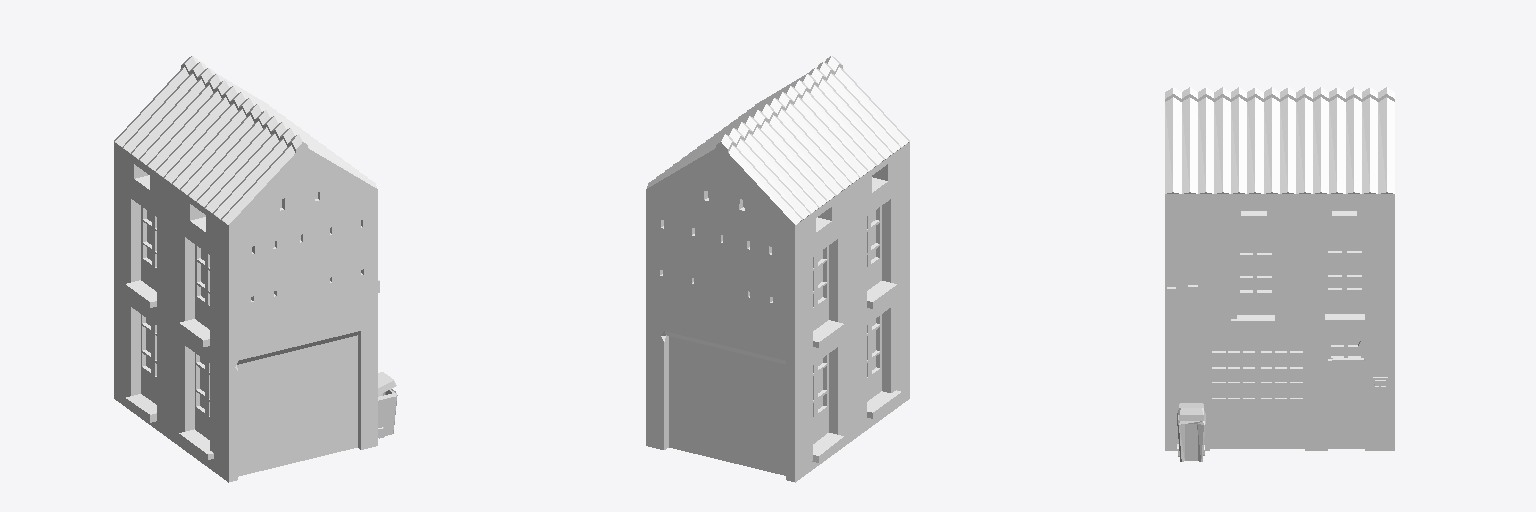
File: abandoned_house.obj
3 views of the same model, side by side, from view 1: azimuth 30°, elevation 25°; view 2: azimuth 150°, elevation 25°; view 3: azimuth 270°, elevation 25° (orthographic).
Parts seen in each view (by area): view 1: obj1; view 2: obj1; view 3: obj1.
Part boxes in pixels (left/top/right/bottom): obj1: left=114, top=56, right=397, bottom=482; obj1: left=646, top=56, right=909, bottom=482; obj1: left=1165, top=87, right=1394, bottom=461.
Size of the model in its own units: 16.2 by 27.85 by 17.7.